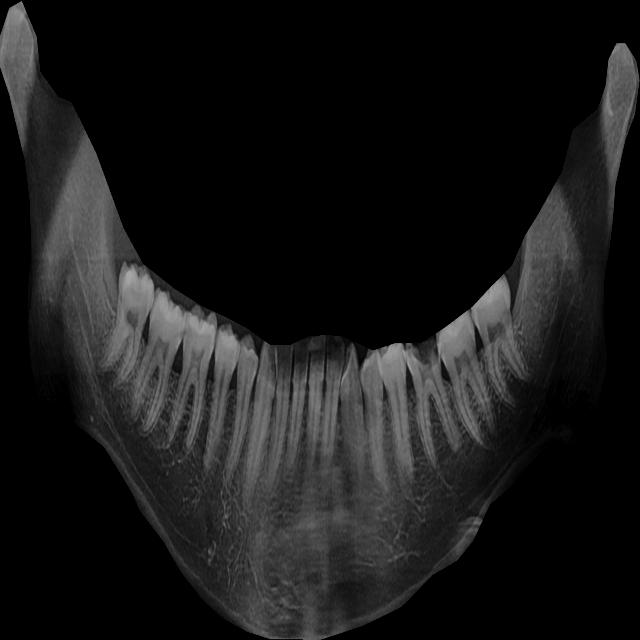mandibula: (0, 1, 640, 640)
